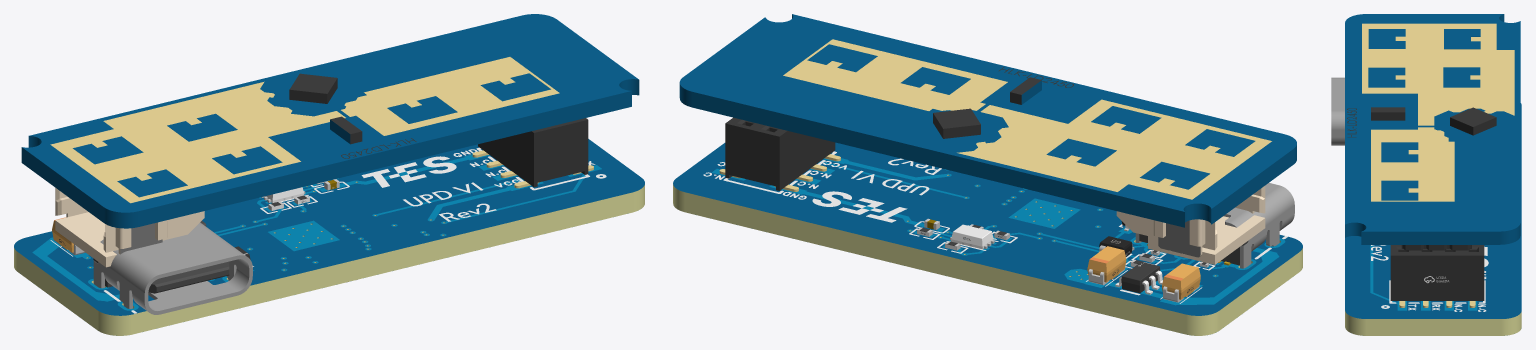
File: upd.glb
3 views of the same model, side by side, from view 1: azimuth 30°, elevation 25°; view 2: azimuth 150°, elevation 25°; view 3: azimuth 270°, elevation 25° (orthographic). The views are drawn at different scales.
Visible parts, largest first — view 1: HLK-LD2450_VrdbSt v2, Board~Svb7, USB-C-SMD_TYPE-C-6PIN-2MD-073~USB-C-SMD_TYPE-C-6PIN-2MD-073~ (×2), TopCopper~Svb7, HLK-LD2450_VrdbSt v012, TopSilkscreen~Svb7, HLK-LD2450_VrdbSt v004; view 2: HLK-LD2450_VrdbSt v2, Board~Svb7, TopCopper~Svb7, TopSilkscreen~Svb7, HLK-LD2450_VrdbSt v012, USB-C-SMD_TYPE-C-6PIN-2MD-073~USB-C-SMD_TYPE-C-6PIN-2MD-073~, CASE-A_3216~CASE-A_3216~Svb7, R0402~R0402_L1.0-W0.5-H0.4~Svb008, HLK-LD2450_VrdbSt v004, R0402~R0402_L1.0-W0.5-H0.4~Svb7; view 3: HLK-LD2450_VrdbSt v2, Board~Svb7, USB-C-SMD_TYPE-C-6PIN-2MD-073~USB-C-SMD_TYPE-C-6PIN-2MD-073~, TopSilkscreen~Svb7, TopCopper~Svb7.
Boxes of the visible parts, x1,y1,x2,y2 form: HLK-LD2450_VrdbSt v2: (14, 14, 644, 315); Board~Svb7: (14, 181, 644, 335); USB-C-SMD_TYPE-C-6PIN-2MD-073~USB-C-SMD_TYPE-C-6PIN-2MD-073~ (×2): (93, 221, 252, 314); TopCopper~Svb7: (32, 154, 601, 310); HLK-LD2450_VrdbSt v012: (55, 188, 204, 267); TopSilkscreen~Svb7: (50, 147, 606, 313); HLK-LD2450_VrdbSt v004: (120, 223, 162, 254); HLK-LD2450_VrdbSt v2: (673, 14, 1302, 315); Board~Svb7: (673, 174, 1302, 335); TopCopper~Svb7: (711, 158, 1285, 305); TopSilkscreen~Svb7: (703, 151, 1287, 303); HLK-LD2450_VrdbSt v012: (1116, 186, 1265, 264); USB-C-SMD_TYPE-C-6PIN-2MD-073~USB-C-SMD_TYPE-C-6PIN-2MD-073~: (1135, 183, 1294, 268); CASE-A_3216~CASE-A_3216~Svb7: (1087, 246, 1200, 299); R0402~R0402_L1.0-W0.5-H0.4~Svb008: (919, 225, 1206, 293); HLK-LD2450_VrdbSt v004: (1158, 220, 1200, 257); R0402~R0402_L1.0-W0.5-H0.4~Svb7: (917, 218, 1208, 302); HLK-LD2450_VrdbSt v2: (1345, 14, 1521, 318); Board~Svb7: (1345, 311, 1521, 335); USB-C-SMD_TYPE-C-6PIN-2MD-073~USB-C-SMD_TYPE-C-6PIN-2MD-073~: (1331, 77, 1344, 145); TopSilkscreen~Svb7: (1371, 245, 1488, 311); TopCopper~Svb7: (1370, 245, 1477, 310).
Bounding box in the file's own units: 0.045 × 0.0124 × 0.0163.
